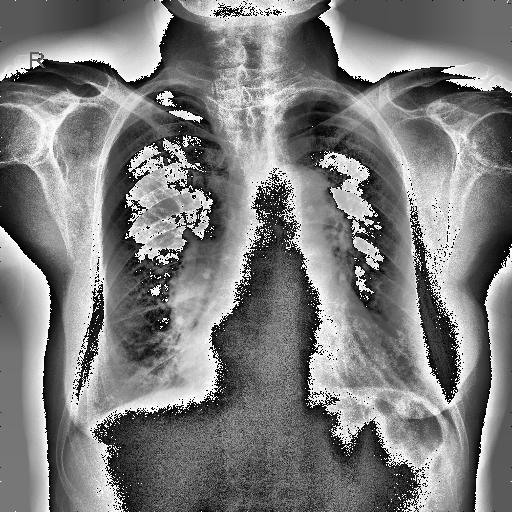0- Aortic enlargement: (256, 164, 342, 258), (260, 167, 336, 260), (245, 160, 330, 240)
11- Pleural thickening: (272, 82, 322, 136)
13- Pulmonary fibrosis: (95, 290, 208, 332)
3- Cardiomegaly: (174, 332, 394, 414), (174, 318, 402, 393), (176, 343, 414, 407)
7- Lung Opacity: (272, 82, 322, 136)
